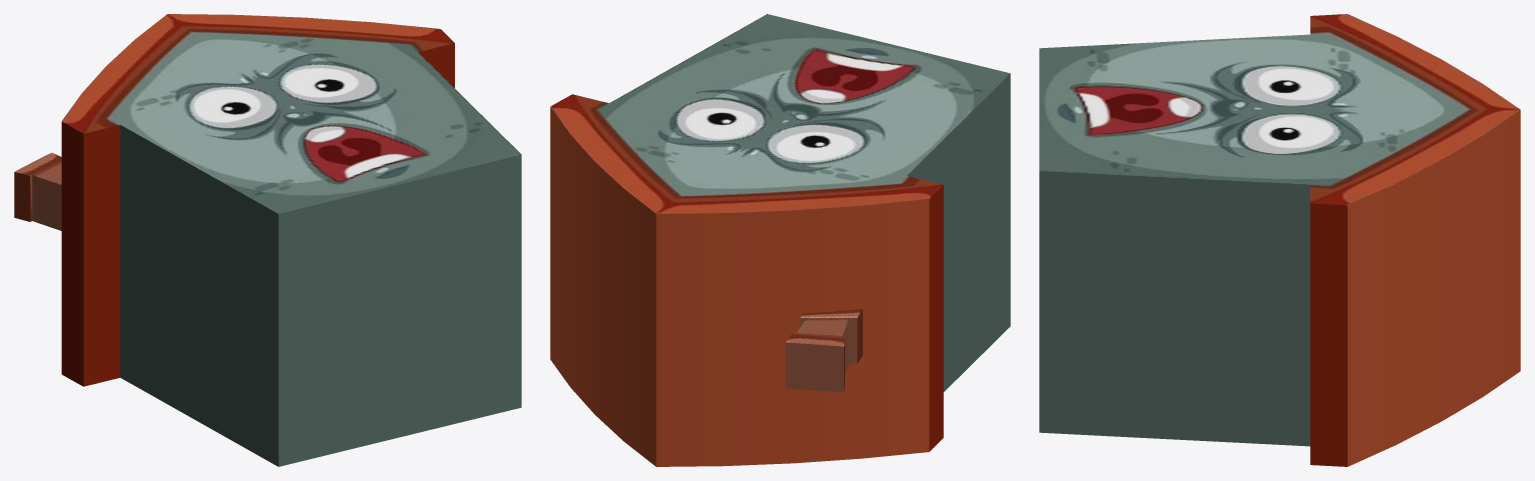
File: evilhouse3.fbx
The picture shows the model from 3 angles, left to right: view 1: azimuth 30°, elevation 25°; view 2: azimuth 150°, elevation 25°; view 3: azimuth 270°, elevation 25°; orthographic projection. The views are drawn at different scales.
Parts seen in each view (by area): view 1: evil house2; view 2: evil house2; view 3: evil house2.
Boxes of the visible parts, x1,y1,x2,y2 form: evil house2: (14, 14, 521, 466); evil house2: (550, 14, 1010, 466); evil house2: (1039, 14, 1520, 466).
Bounding box in the file's own units: 345 × 220 × 367.
7 materials, 2 textured.
